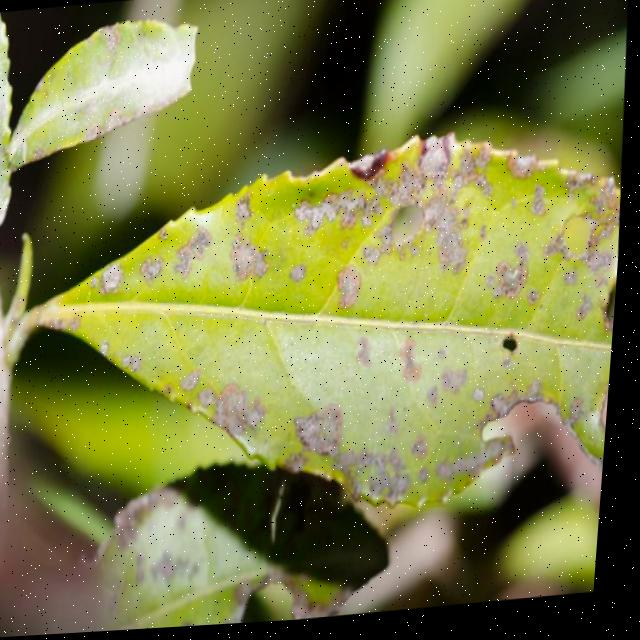Tea red rust: (51, 143, 609, 521)
